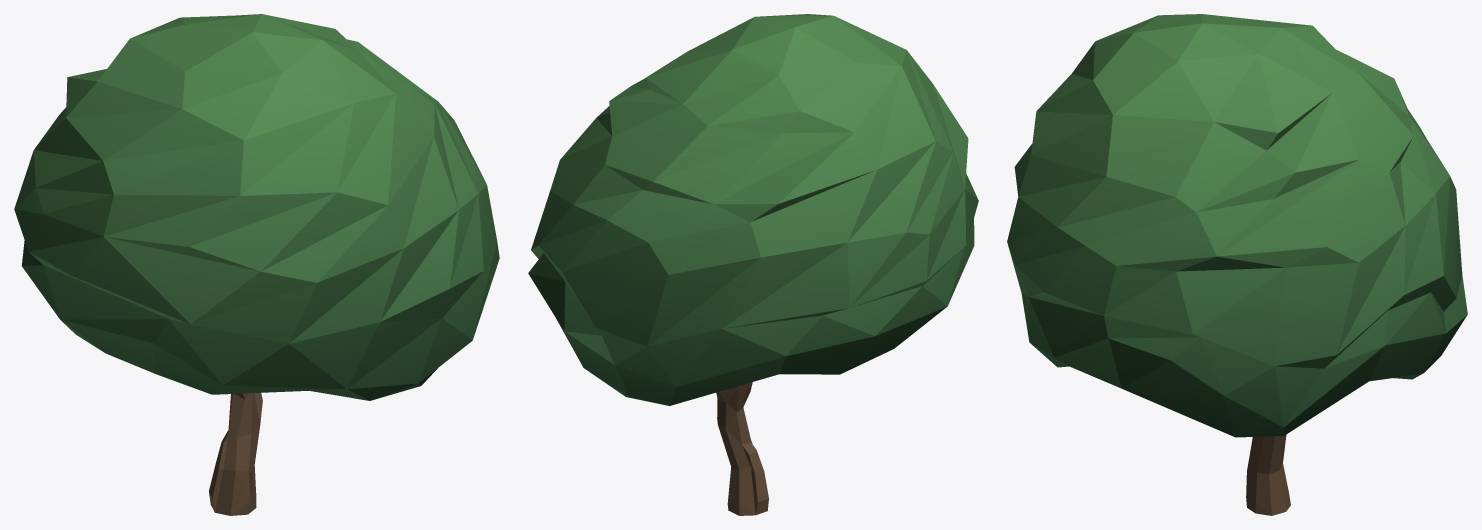
File: lp_tree_02.glb
3 views of the same model, side by side, from view 1: azimuth 30°, elevation 25°; view 2: azimuth 150°, elevation 25°; view 3: azimuth 270°, elevation 25° (orthographic). The views are drawn at different scales.
Parts seen in each view (by area): view 1: tree_2; view 2: tree_2; view 3: tree_2.
Part boxes in pixels (x1,y1,x2,y2): tree_2: [14, 14, 499, 515]; tree_2: [528, 14, 978, 515]; tree_2: [1007, 14, 1467, 515].
Size of the model in its own units: 6.77 by 7.73 by 6.79.
